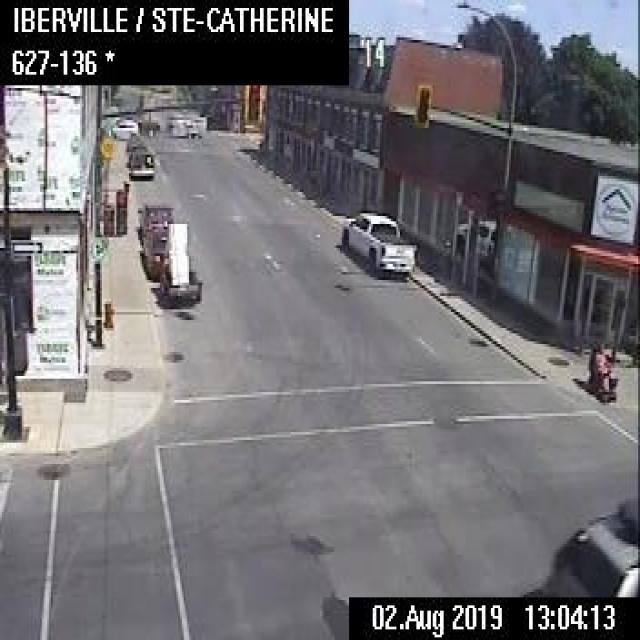pedestrian: (584, 341, 614, 403)
vehicle: (520, 499, 638, 594), (136, 220, 202, 310), (340, 208, 416, 275), (136, 200, 173, 242), (167, 109, 204, 136), (128, 145, 154, 176), (107, 116, 138, 139), (125, 133, 146, 149)
